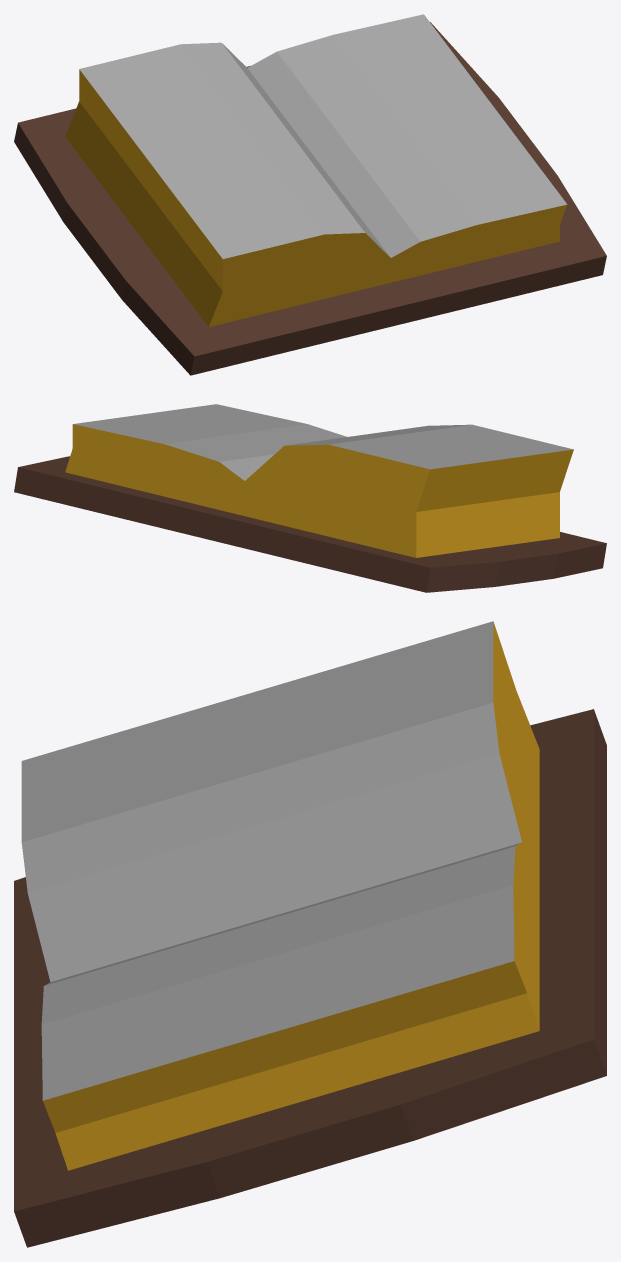
File: Book.fbx
3 renders of one model, top to bottom at view 1: azimuth 30°, elevation 25°; view 2: azimuth 150°, elevation 25°; view 3: azimuth 270°, elevation 25°, orthographic. The views are drawn at different scales.
Visible parts, largest first — view 1: Book; view 2: Book; view 3: Book.
Boxes of the visible parts, x1,y1,x2,y2 form: Book: [14, 14, 606, 375]; Book: [14, 404, 606, 592]; Book: [14, 621, 606, 1247].
Bounding box in the file's own units: 224 × 96.84 × 162.
